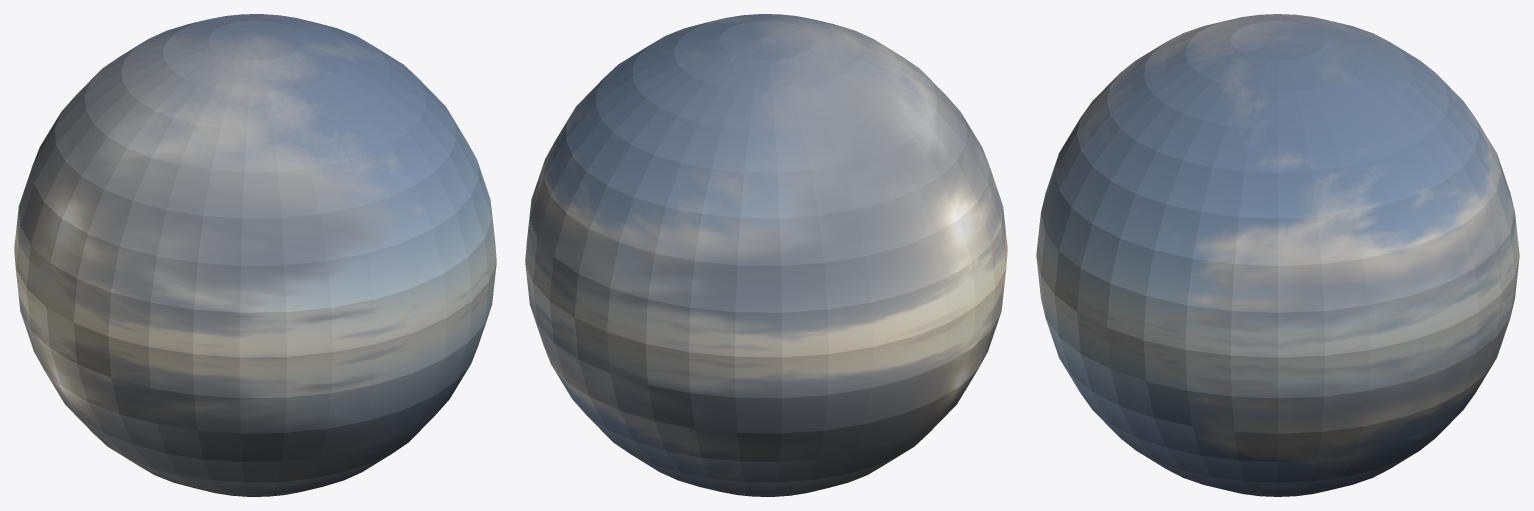
The model's file is stage07.glb.
3 views of the same model, side by side, from view 1: azimuth 30°, elevation 25°; view 2: azimuth 150°, elevation 25°; view 3: azimuth 270°, elevation 25° (orthographic).
Visible parts, largest first — view 1: Sphere; view 2: Sphere; view 3: Sphere.
Part boxes in pixels (box(x1,y1,x2,y2)): Sphere: box(14, 14, 496, 496); Sphere: box(525, 14, 1007, 496); Sphere: box(1036, 14, 1519, 496).
Size of the model in its own units: 500 by 500 by 500.
4 materials, 2 textured.
